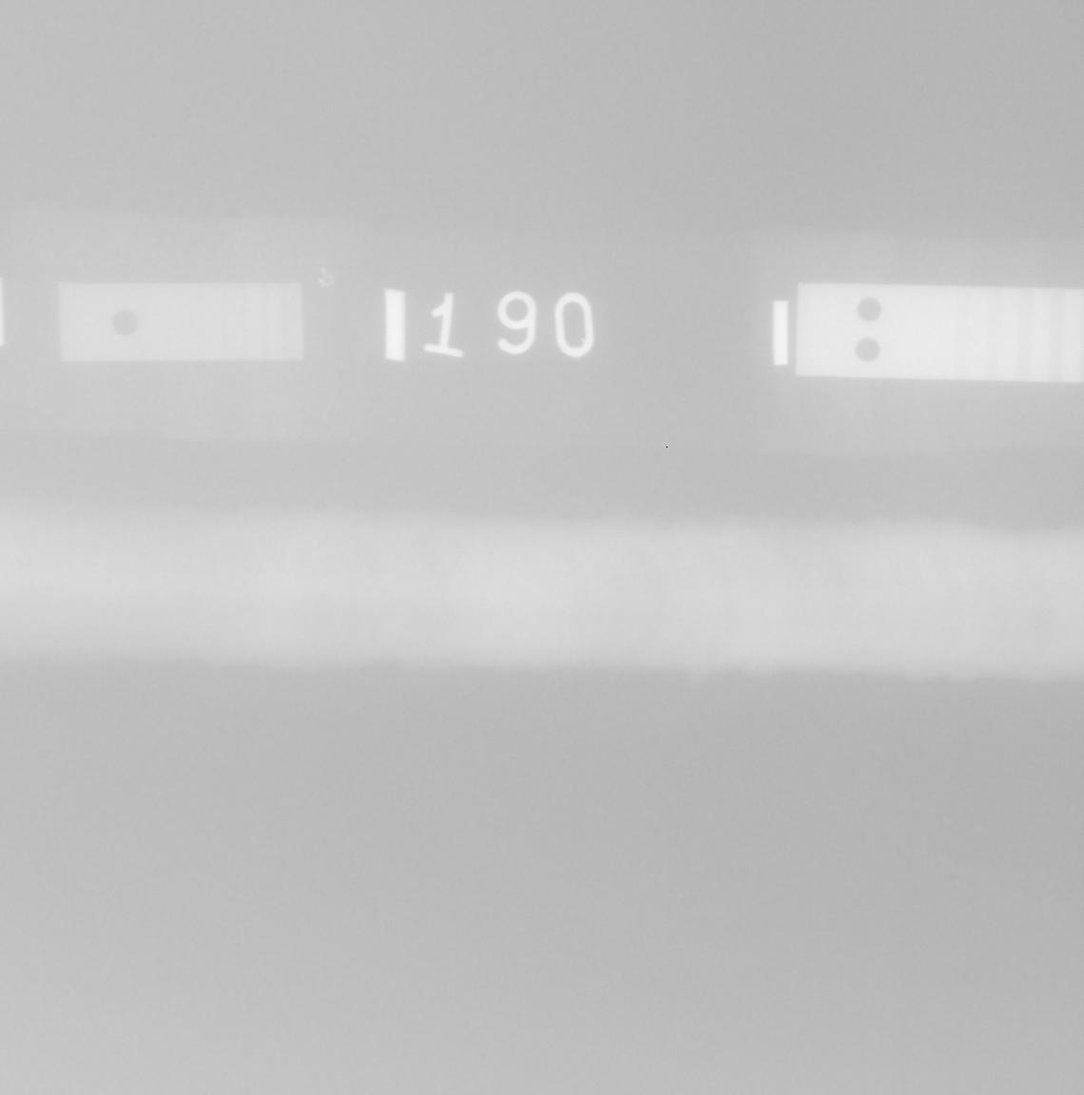Reference Standard 1: (58, 281, 305, 361)
